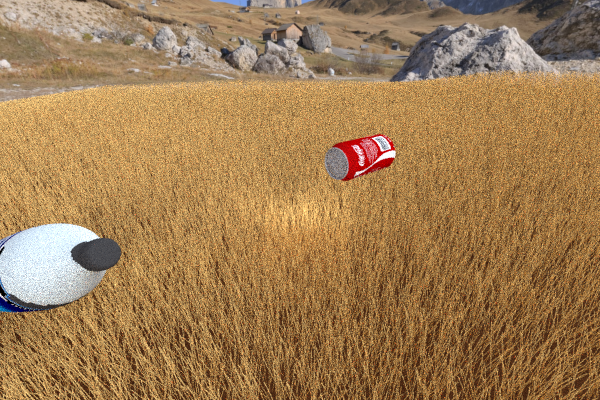Plastic Bottle: (0, 223, 121, 313), (324, 134, 395, 181), (194, 89, 232, 112)
